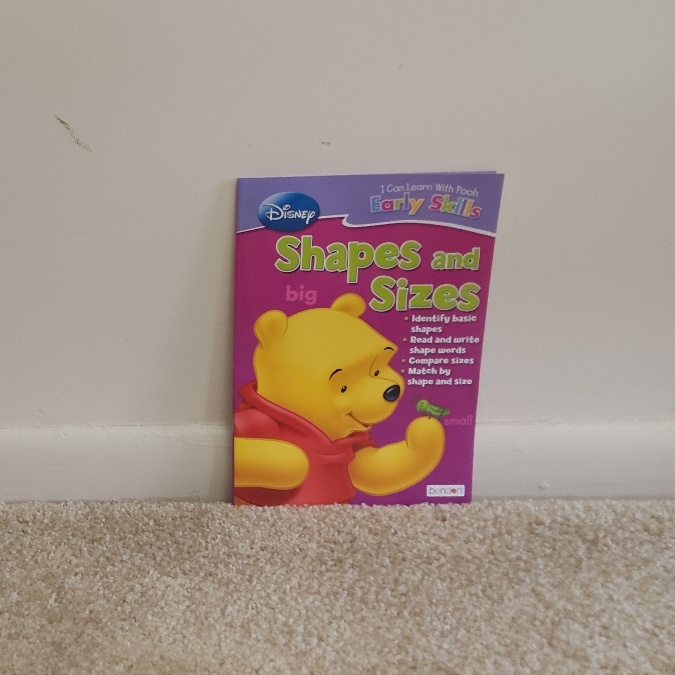book: (240, 177, 477, 505)
